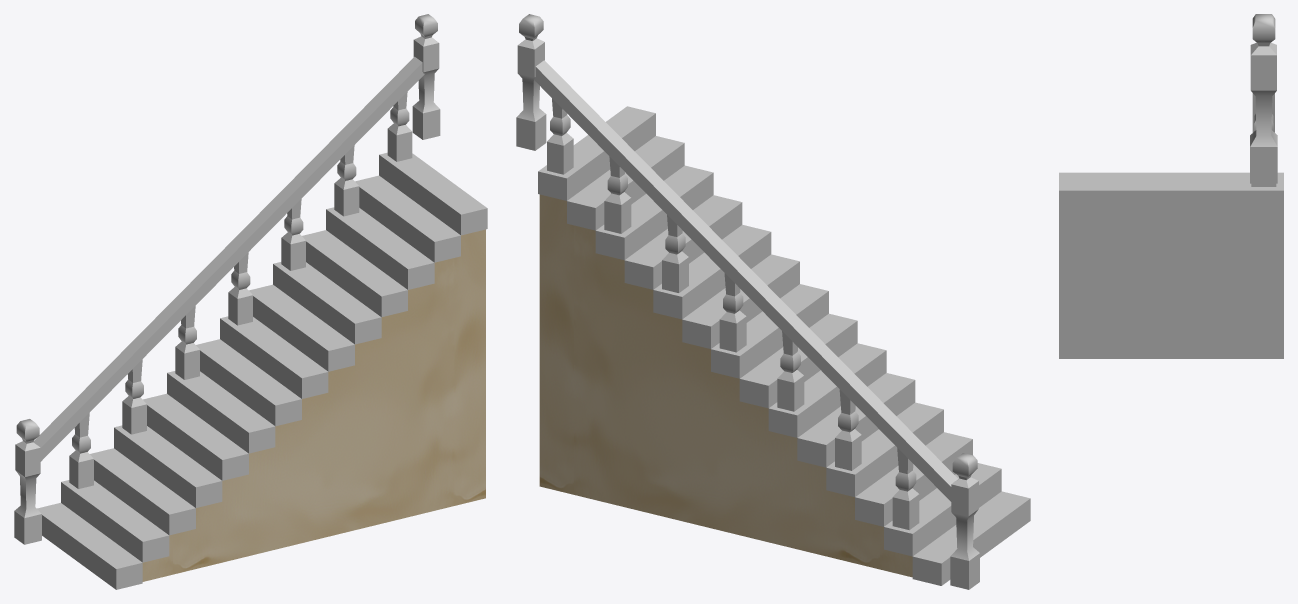
Rendered from MOD_Stair_01.fbx.
3 renders of one model, left to right at view 1: azimuth 30°, elevation 25°; view 2: azimuth 150°, elevation 25°; view 3: azimuth 270°, elevation 25°, orthographic. The views are drawn at different scales.
Visible parts, largest first — view 1: Stair, Stair_railling; view 2: Stair, Stair_railling; view 3: Stair, Stair_railling.
Boxes of the visible parts, box(x1,y1,x2,y2) form: Stair: box(37, 152, 487, 589); Stair_railling: box(14, 14, 440, 544); Stair: box(538, 106, 1030, 585); Stair_railling: box(516, 14, 979, 589); Stair: box(1059, 172, 1283, 358); Stair_railling: box(1250, 14, 1277, 186).
Bounding box in the file's own units: 215 × 73.33 × 209.
